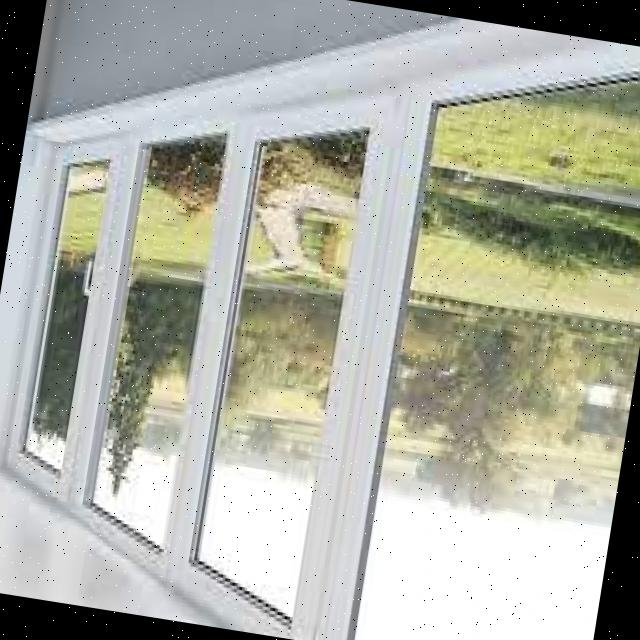Window: (343, 18, 640, 640), (172, 94, 383, 637), (72, 100, 242, 569), (8, 141, 126, 480)
